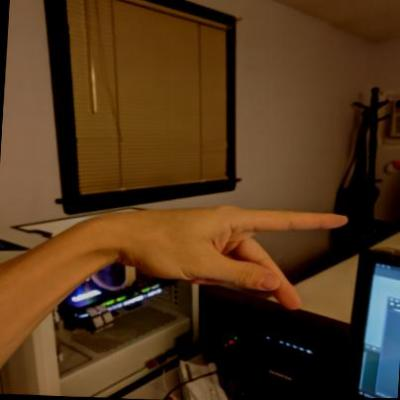hand: (113, 194, 352, 318)
